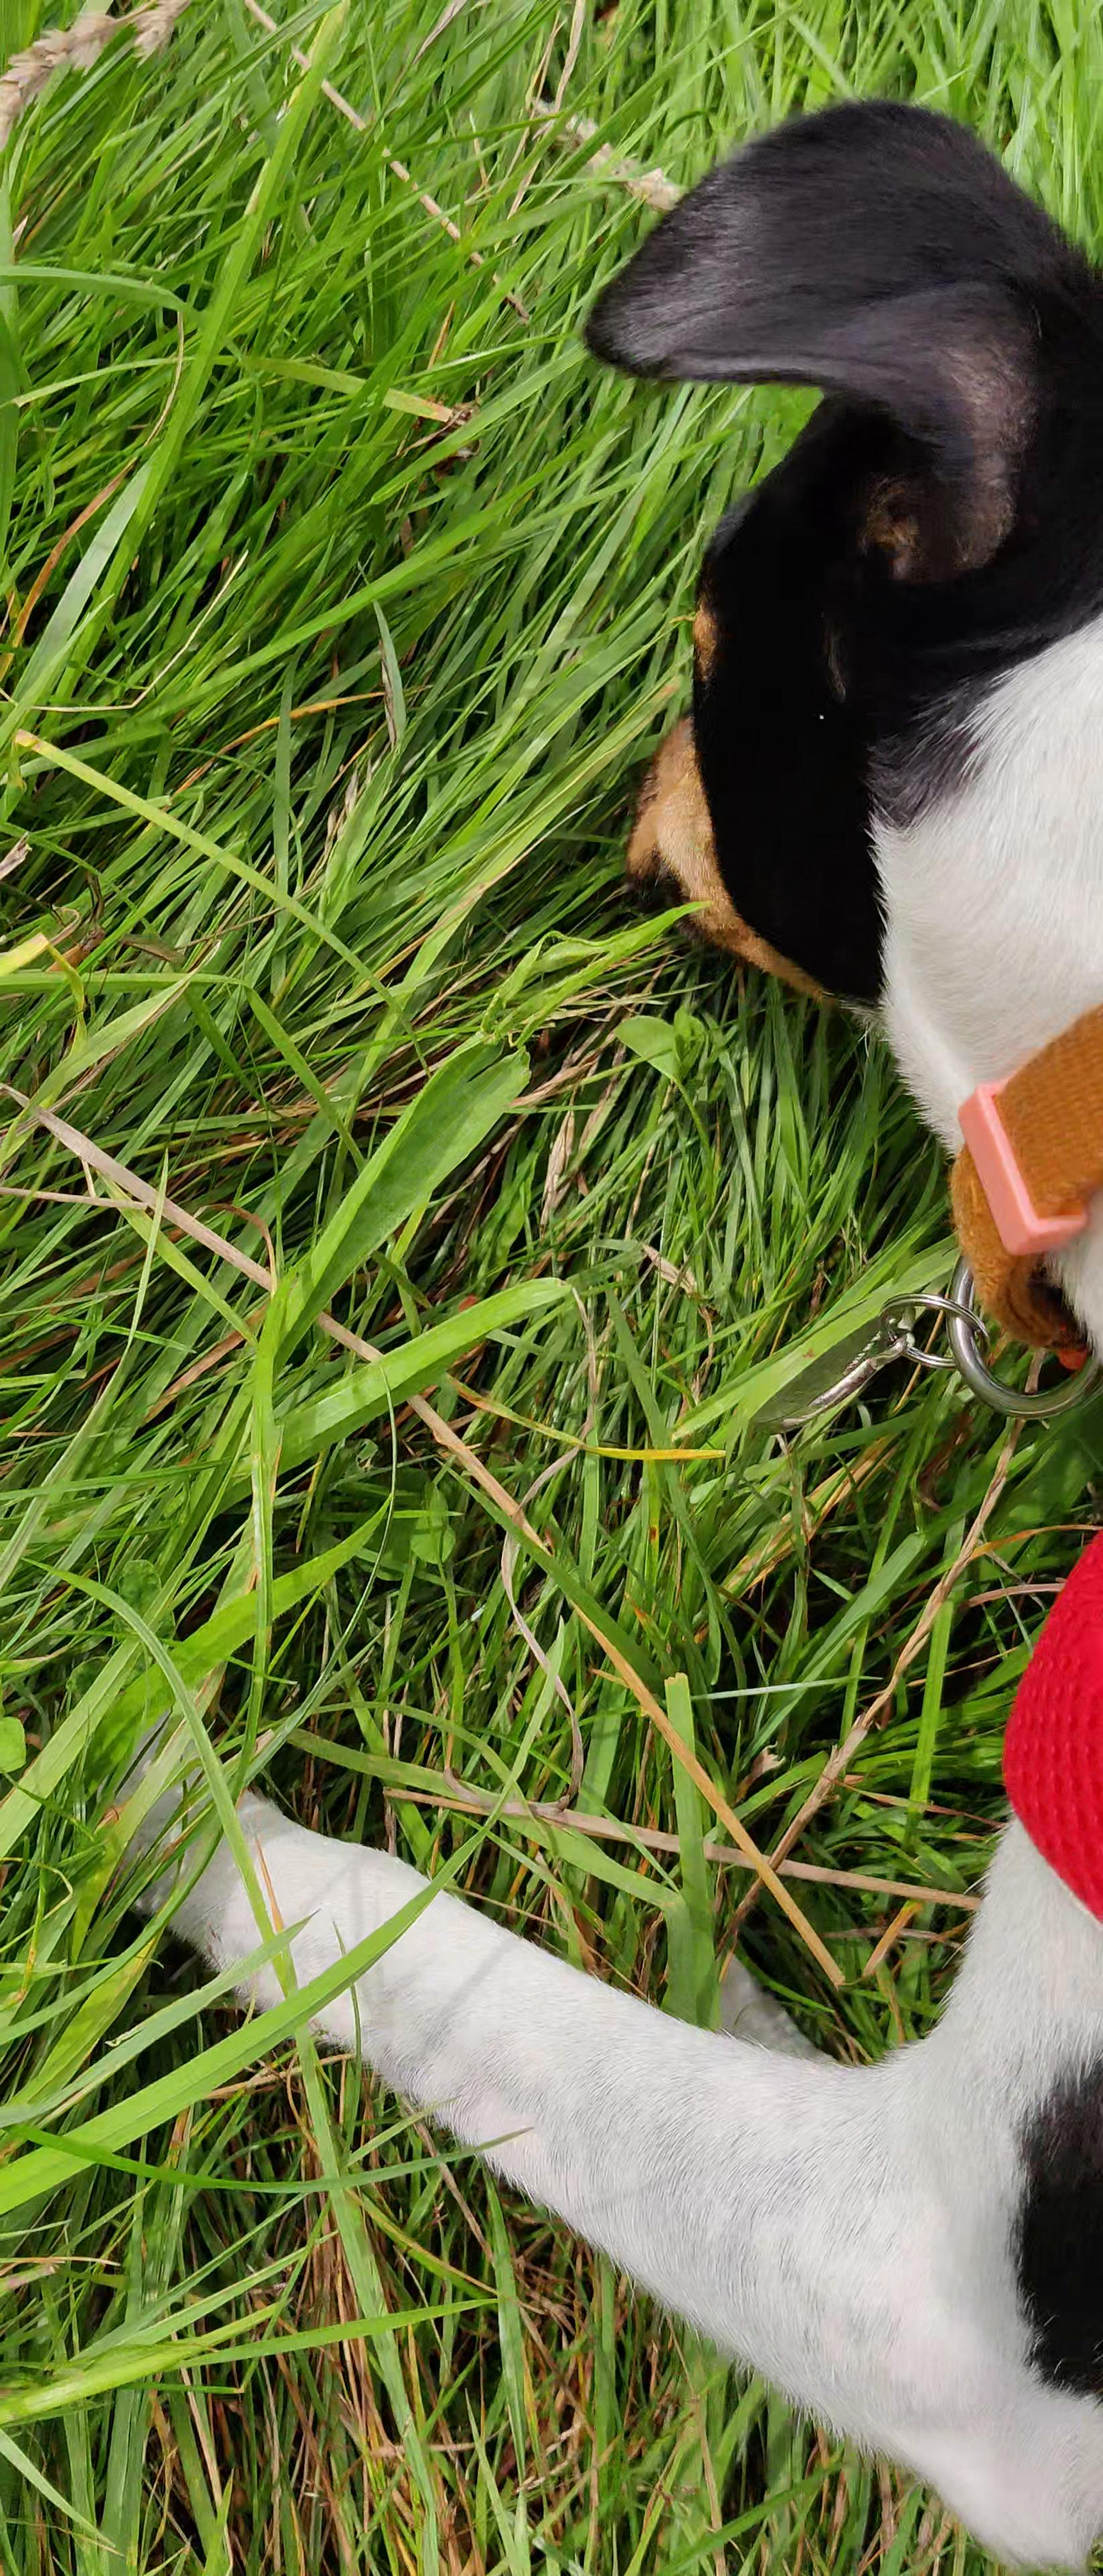Dog: (87, 82, 1103, 2576)
